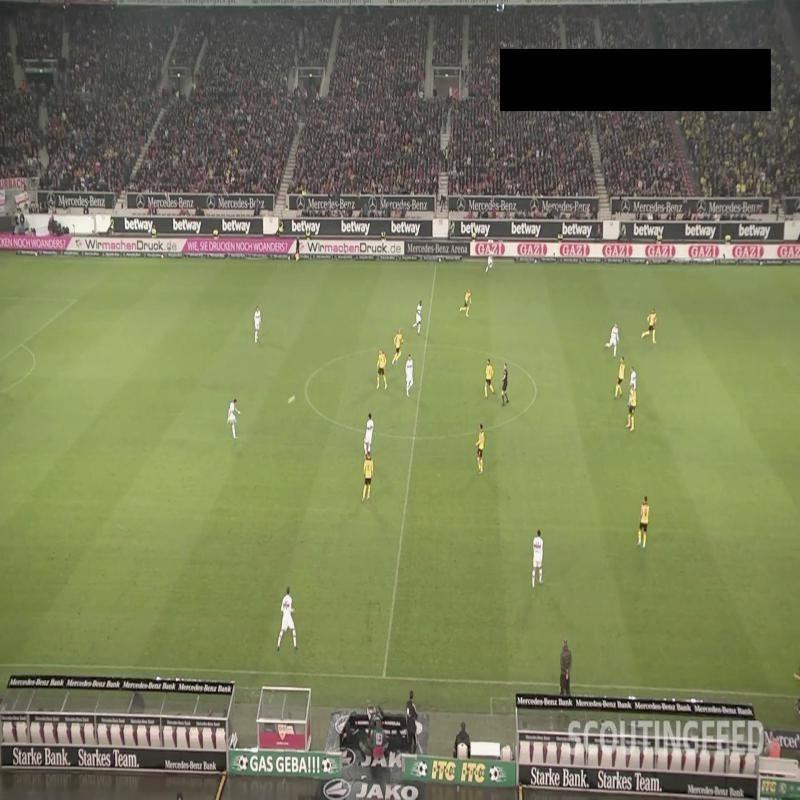10: (15, 340, 29, 353)
13: (428, 259, 443, 273)
14: (418, 338, 432, 352)
15: (407, 431, 421, 446)
16: (376, 670, 390, 685)
9: (70, 293, 84, 307)
c: (298, 378, 314, 392), (529, 384, 543, 398)
